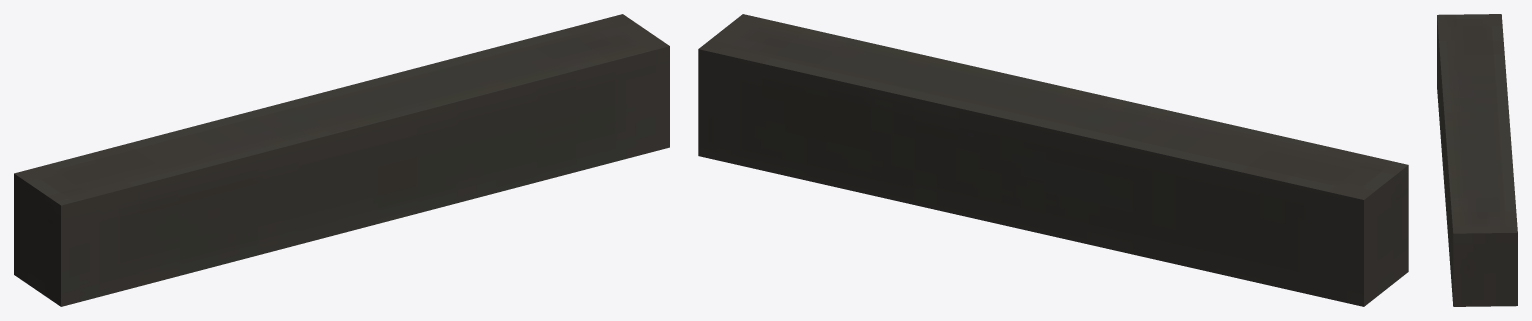
The model's file is frame__top_rail_pos.glb.
The picture shows the model from 3 angles, left to right: view 1: azimuth 30°, elevation 25°; view 2: azimuth 150°, elevation 25°; view 3: azimuth 270°, elevation 25°; orthographic projection. The views are drawn at different scales.
Parts seen in each view (by area): view 1: world; view 2: world; view 3: world.
Boxes of the visible parts, x1=… form: world: x1=14, y1=14, x2=669, y2=306; world: x1=698, y1=14, x2=1408, y2=306; world: x1=1437, y1=14, x2=1517, y2=306.
Size of the model in its own units: 0.3212 by 0.05 by 0.05.
1 material, 1 textured.
